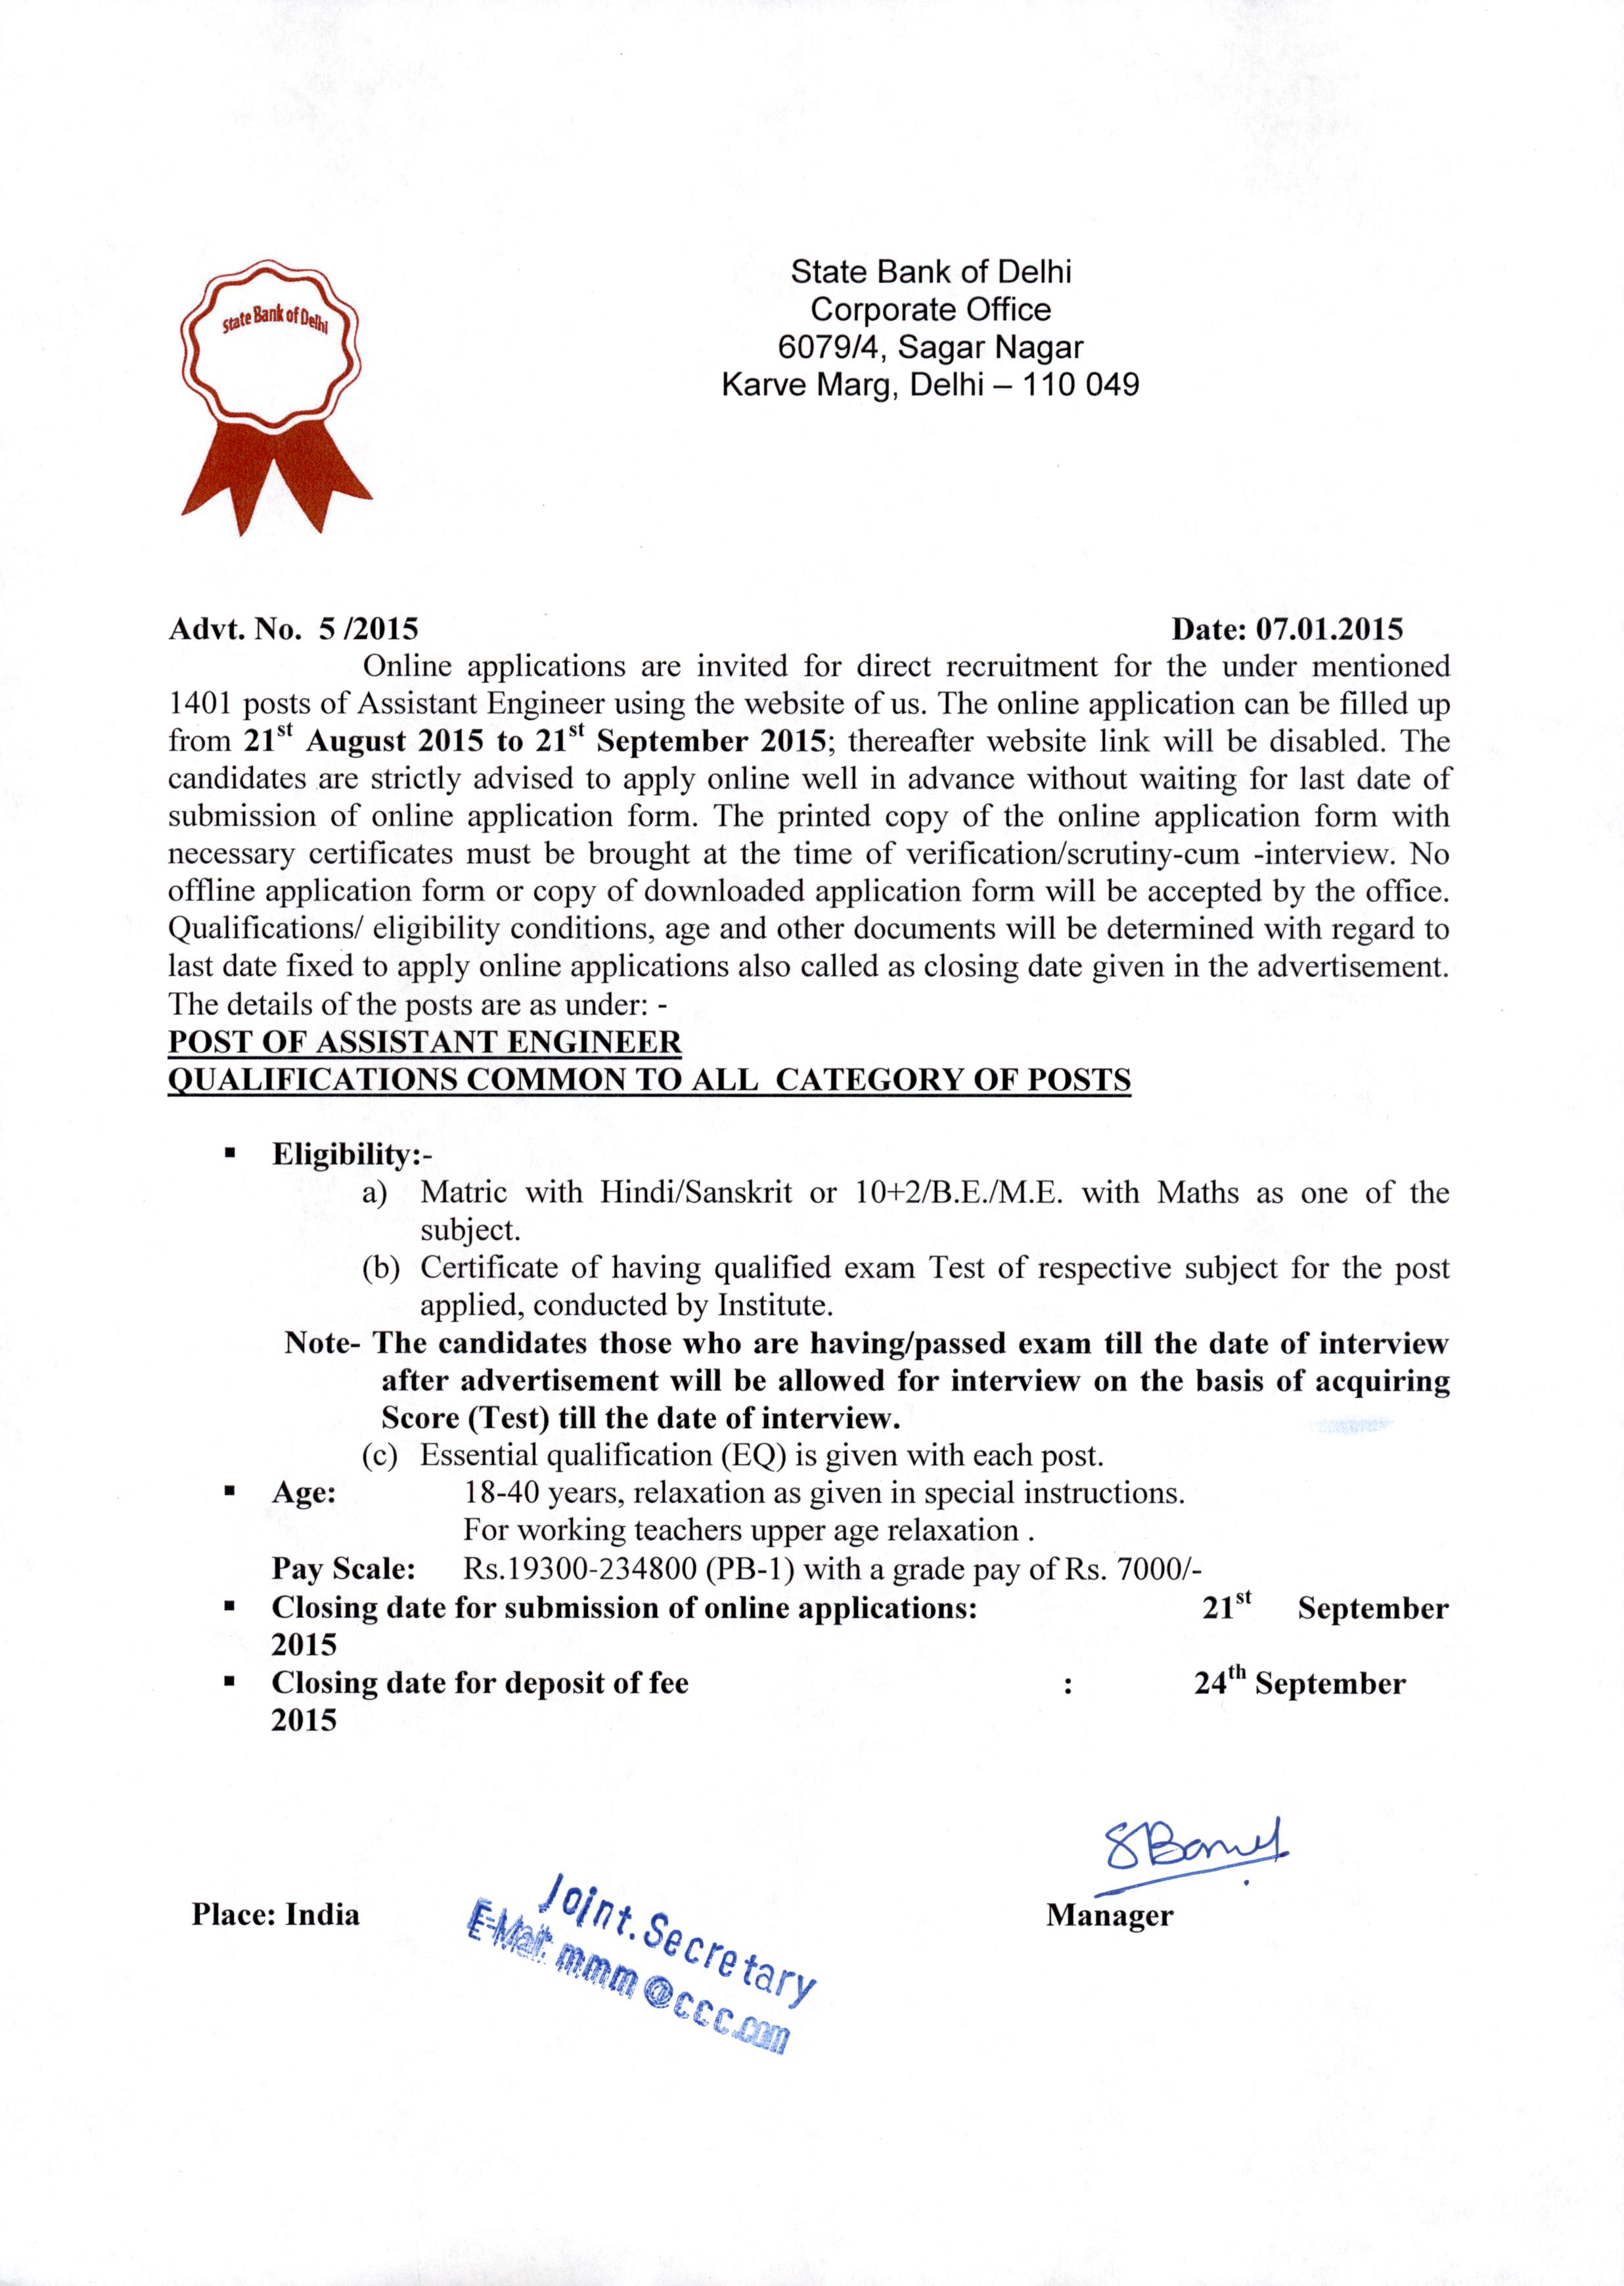Signature: (1076, 1810, 1304, 1901)
